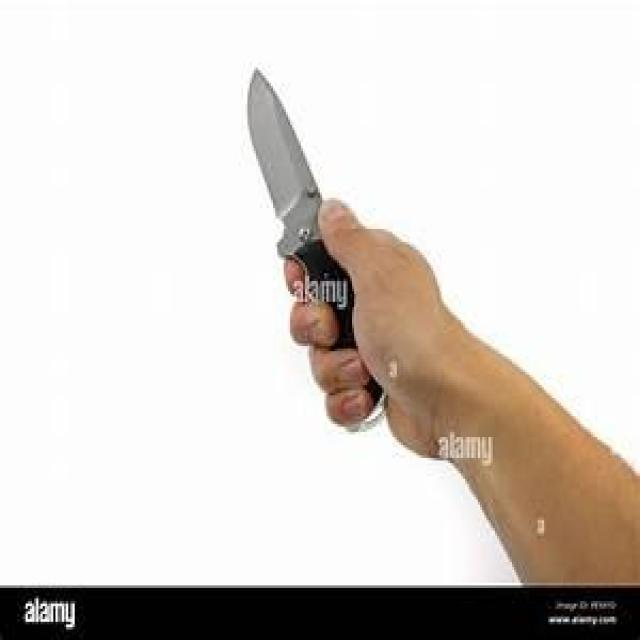Knife: (232, 53, 409, 460)
